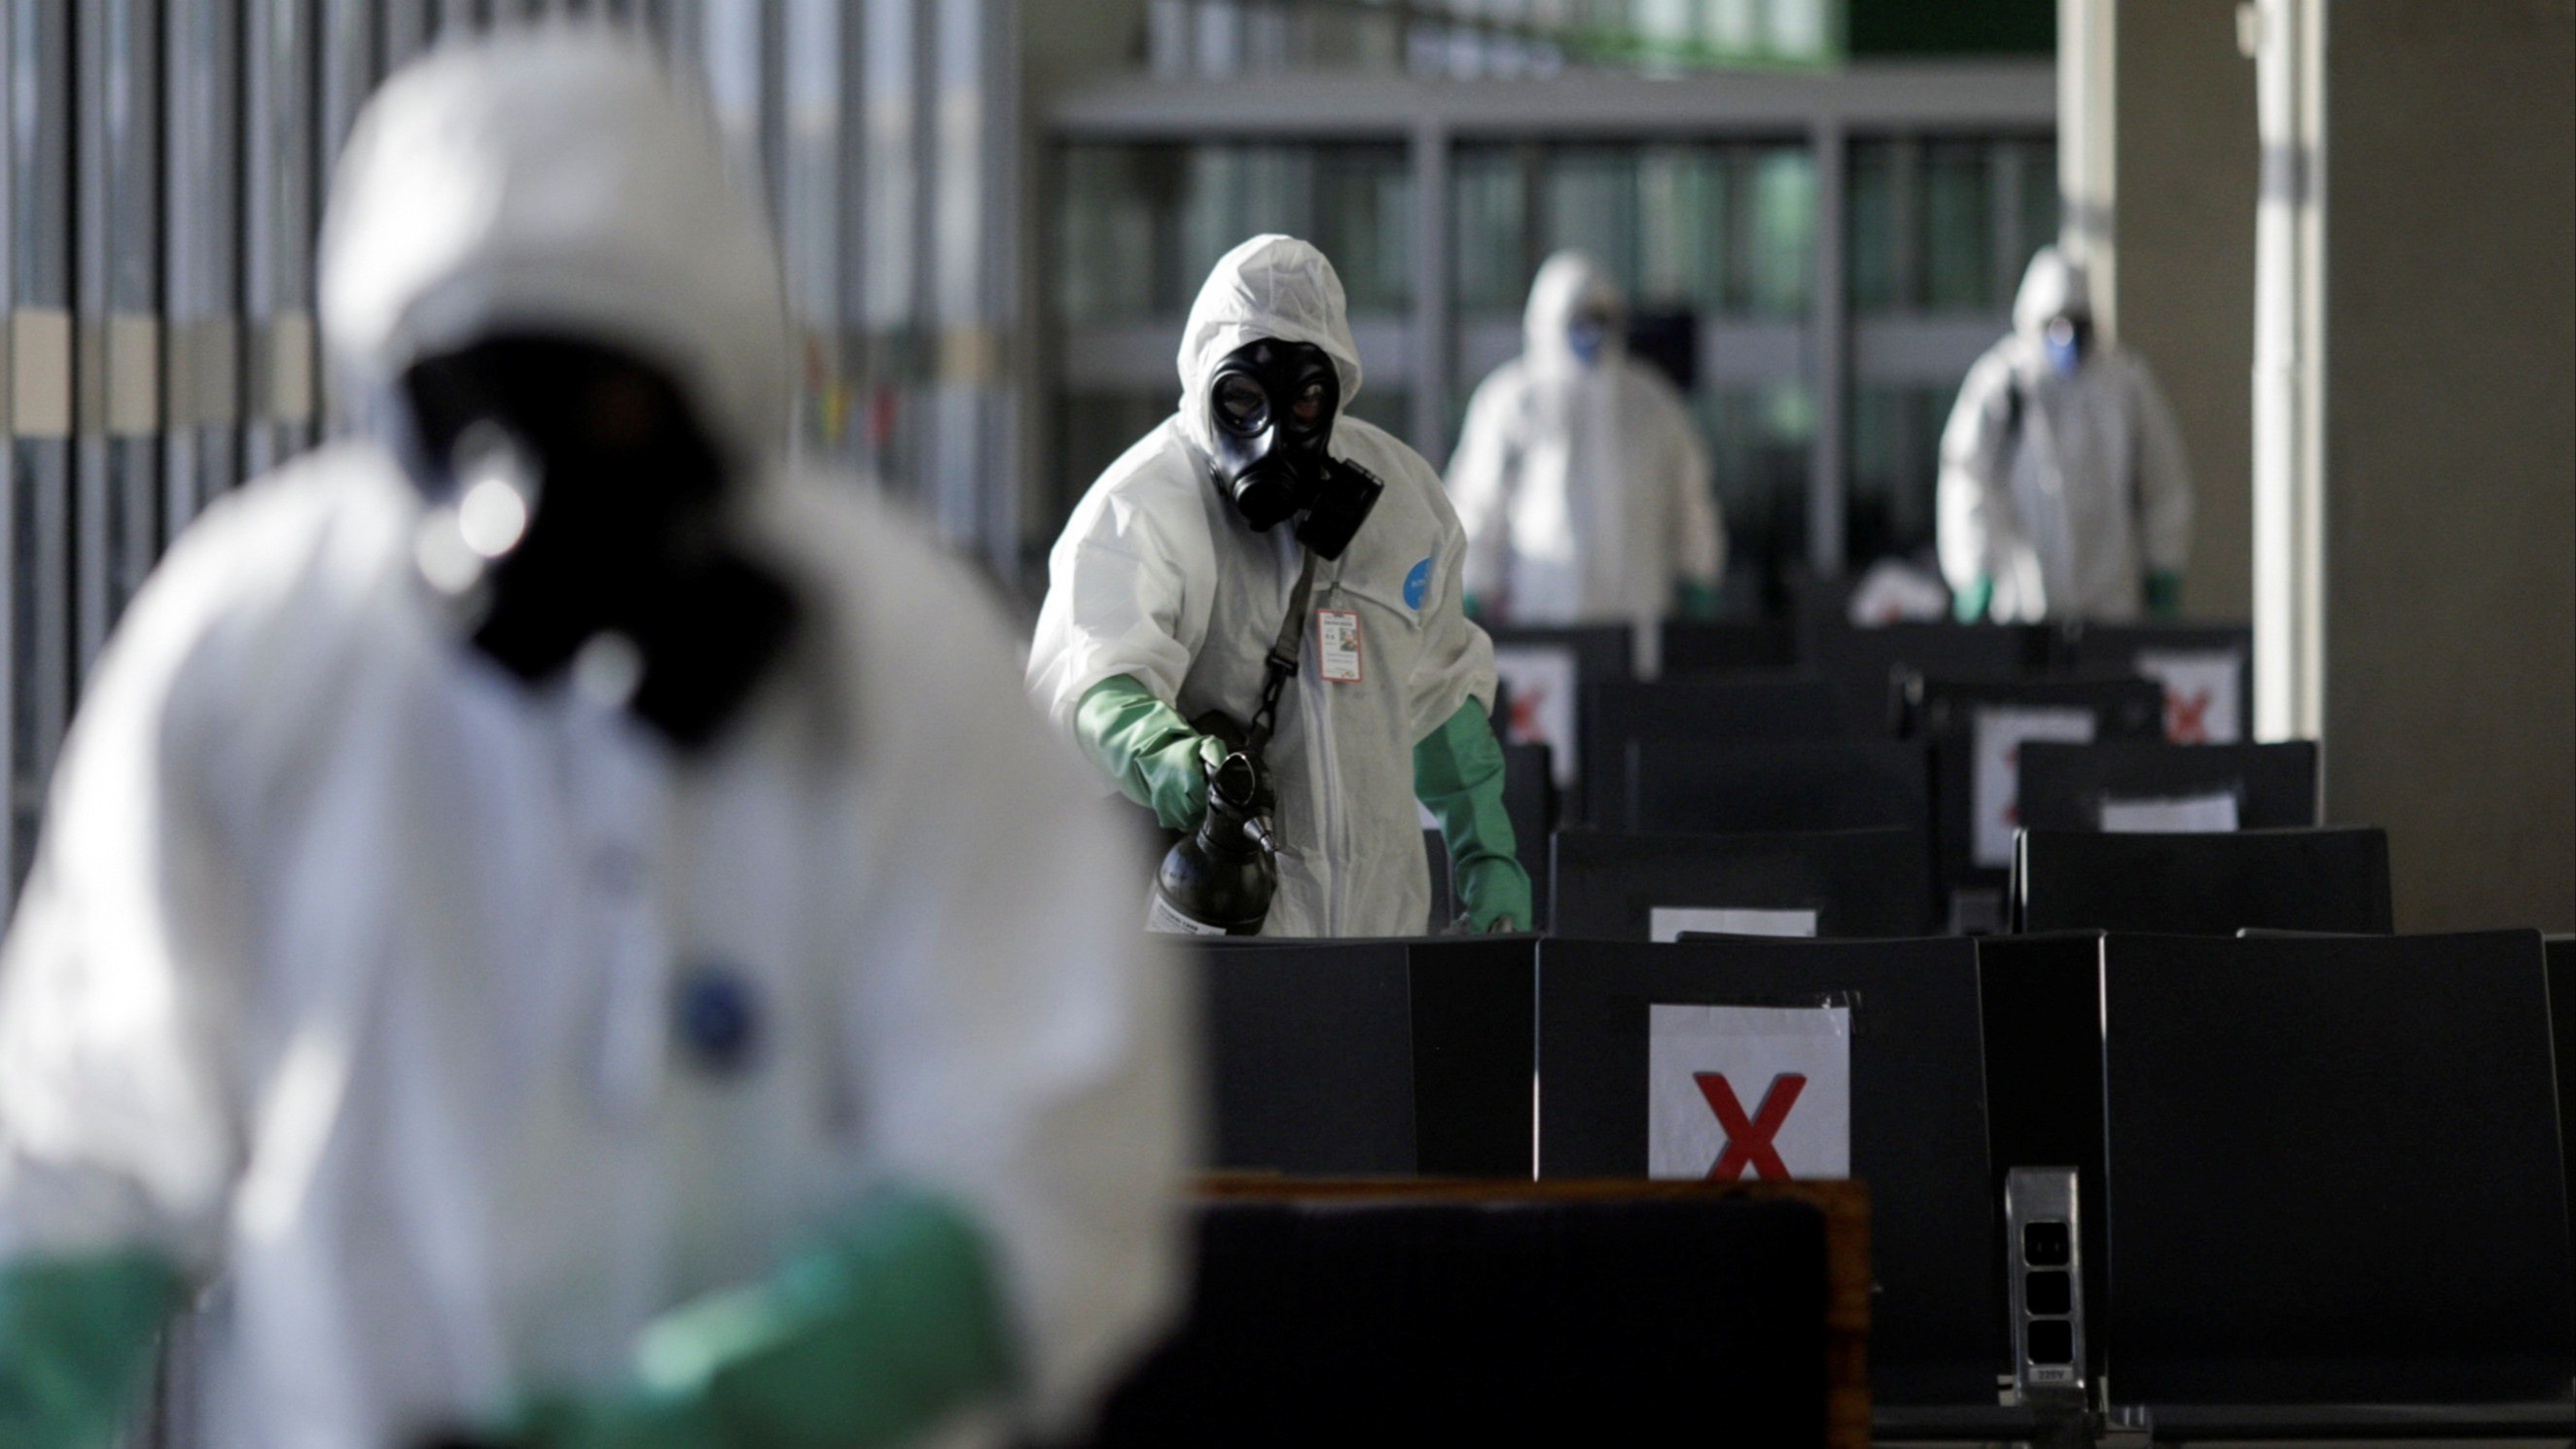Coverall: (3, 22, 1191, 1449), (1012, 228, 1547, 984), (1427, 240, 1751, 665), (1923, 230, 2204, 653)
Gloves: (387, 1170, 1039, 1449), (1398, 696, 1551, 961), (1075, 658, 1257, 855)
Mask: (388, 331, 805, 768)
with_mask: (1198, 346, 1403, 570)
